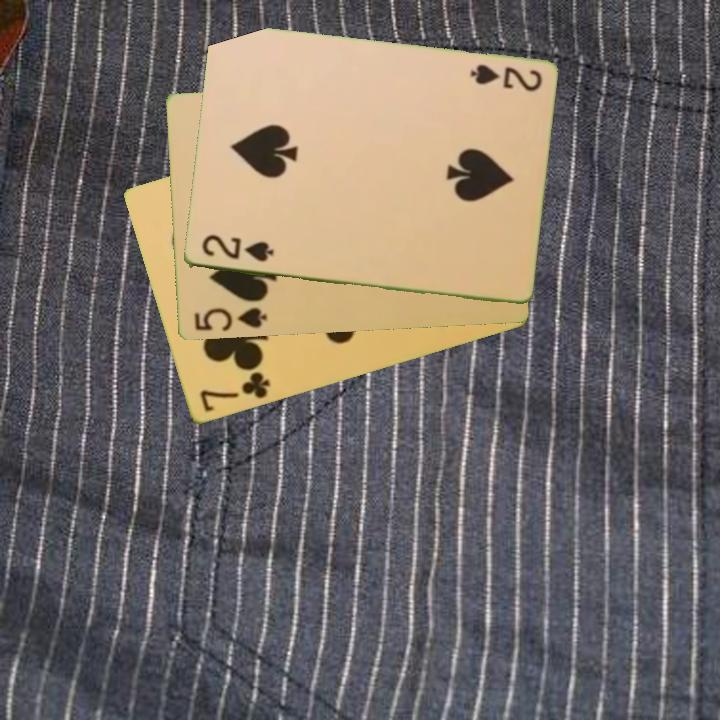2s: (466, 61, 545, 95), (198, 231, 276, 265)
5s: (190, 304, 270, 335)
7c: (196, 368, 273, 415)
